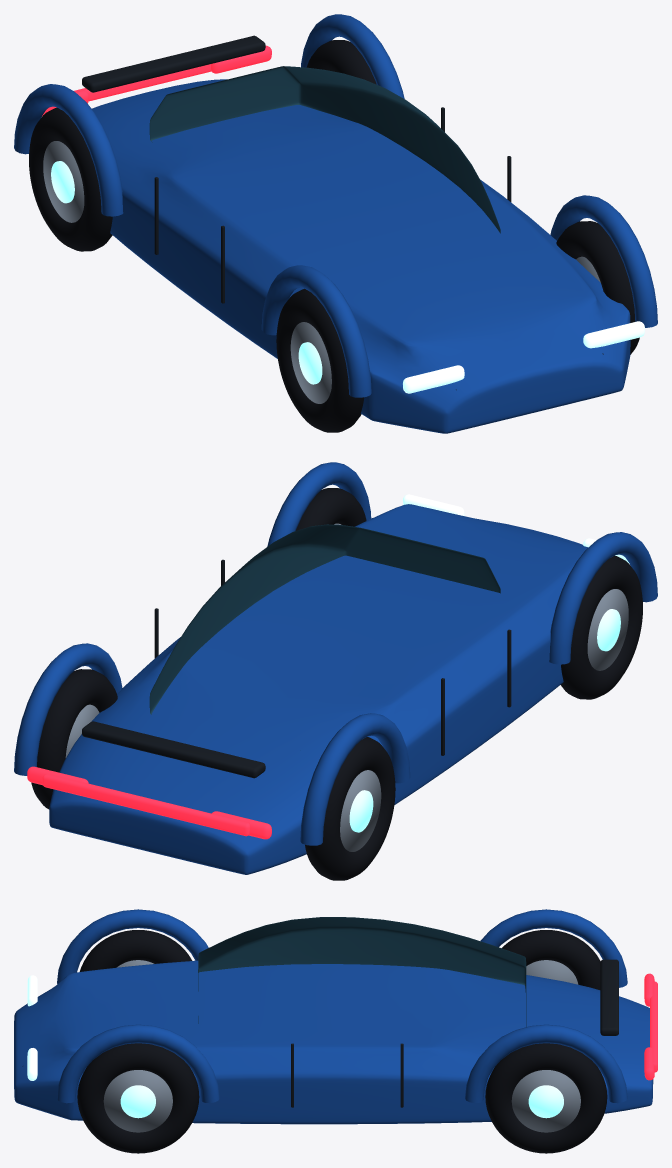
The model's file is rainline_coastline_gt_v3.glb.
3 renders of one model, top to bottom at view 1: azimuth 30°, elevation 25°; view 2: azimuth 150°, elevation 25°; view 3: azimuth 270°, elevation 25°, orthographic. The views are drawn at different scales.
Parts seen in each view (by area): view 1: Coastline fastback body, Coastline fastback glass, Coastline performance tire, Coastline performance tire.001, Coastline painted fender, Coastline painted fender.001, Coastline painted fender.002, Coastline performance tire.002, Coastline deck spoiler, Coastline painted fender.003, Coastline alloy wheel, Coastline alloy wheel.001 (+7 smaller); view 2: Coastline fastback body, Coastline fastback glass, Coastline performance tire.001, Coastline performance tire, Coastline painted fender.001, Coastline painted fender, Coastline painted fender.003, Coastline performance tire.003, Coastline deck spoiler, Coastline rear lamp bar, Coastline painted fender.002, Coastline performance tire.002 (+5 smaller); view 3: Coastline fastback body, Coastline fastback glass, Coastline performance tire.003, Coastline performance tire.002, Coastline painted fender.002, Coastline painted fender.003, Coastline painted fender, Coastline painted fender.001, Coastline performance tire.001, Coastline performance tire, Coastline alloy wheel.002, Coastline alloy wheel.003 (+5 smaller).
Part boxes in pixels (x1,y1,x2,y2): Coastline fastback body: (92, 79, 630, 433); Coastline fastback glass: (149, 66, 500, 233); Coastline performance tire: (276, 288, 364, 432); Coastline performance tire.001: (29, 107, 112, 251); Coastline painted fender: (261, 265, 371, 397); Coastline painted fender.001: (14, 84, 123, 216); Coastline painted fender.002: (550, 195, 657, 327); Coastline performance tire.002: (556, 221, 639, 354); Coastline deck spoiler: (82, 35, 265, 92); Coastline painted fender.003: (301, 14, 404, 98); Coastline alloy wheel: (290, 322, 331, 403); Coastline alloy wheel.001: (43, 141, 84, 222); Coastline fastback body: (49, 504, 588, 874); Coastline fastback glass: (149, 524, 500, 714); Coastline performance tire.001: (305, 737, 395, 880); Coastline performance tire: (560, 555, 642, 699); Coastline painted fender.001: (300, 713, 410, 845); Coastline painted fender: (549, 532, 657, 664); Coastline painted fender.003: (14, 643, 122, 775); Coastline performance tire.003: (31, 669, 117, 809); Coastline deck spoiler: (82, 721, 265, 778); Coastline rear lamp bar: (42, 774, 249, 836); Coastline painted fender.002: (267, 462, 371, 546); Coastline performance tire.002: (296, 488, 366, 530); Coastline fastback body: (14, 960, 653, 1124); Coastline fastback glass: (198, 917, 526, 1026); Coastline performance tire.003: (485, 1043, 607, 1153); Coastline performance tire.002: (77, 1043, 199, 1153); Coastline painted fender.002: (57, 1024, 219, 1103); Coastline painted fender.003: (465, 1024, 627, 1103); Coastline painted fender: (57, 909, 208, 983); Coastline painted fender.001: (480, 909, 627, 987); Coastline performance tire.001: (502, 930, 600, 989); Coastline performance tire: (79, 930, 192, 971); Coastline alloy wheel.002: (103, 1070, 172, 1132); Coastline alloy wheel.003: (511, 1070, 580, 1132).
Size of the model in its own units: 2.34 by 1.34 by 5.18.
